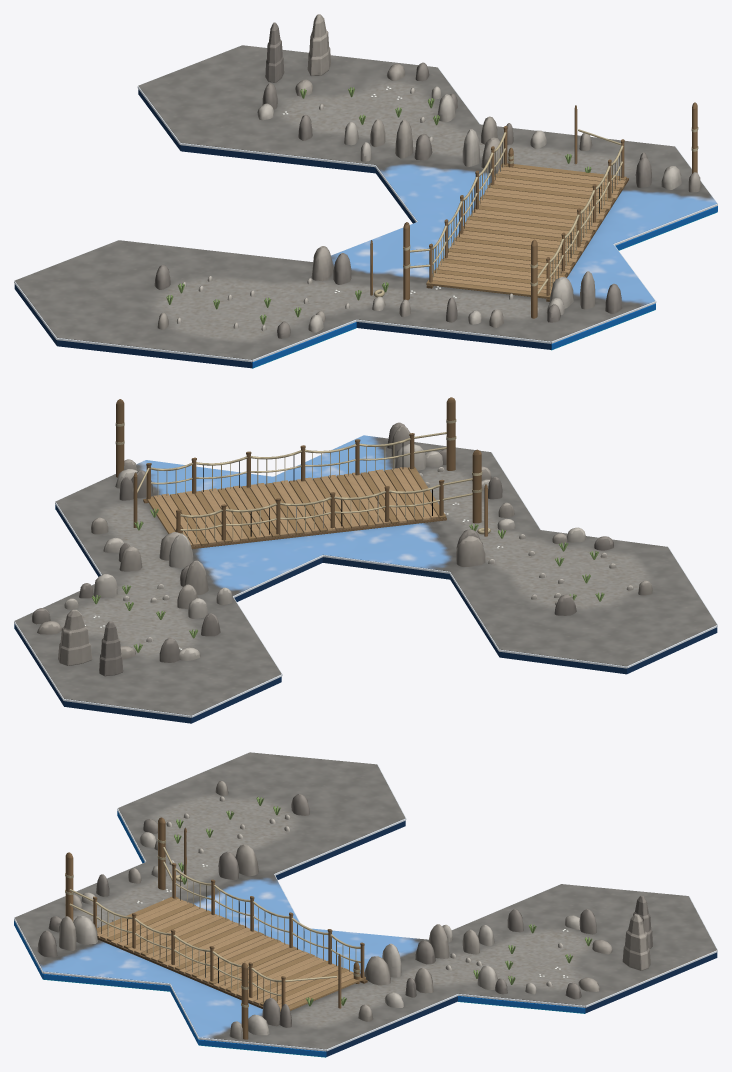
Rendered from field_cm10_01.glb.
The picture shows the model from 3 angles, top to bottom: view 1: azimuth 30°, elevation 25°; view 2: azimuth 150°, elevation 25°; view 3: azimuth 270°, elevation 25°; orthographic projection. The views are drawn at different scales.
Parts seen in each view (by area): view 1: field_cm10_01-authored-summit; view 2: field_cm10_01-authored-summit; view 3: field_cm10_01-authored-summit.
Part boxes in pixels (x1,y1,x2,y2): field_cm10_01-authored-summit: (14,14,717,368); field_cm10_01-authored-summit: (14,397,717,723); field_cm10_01-authored-summit: (14,752,717,1057).
Bounding box in the file's own units: 19.17 × 2.52 × 19.17.
1 material, 1 textured.
